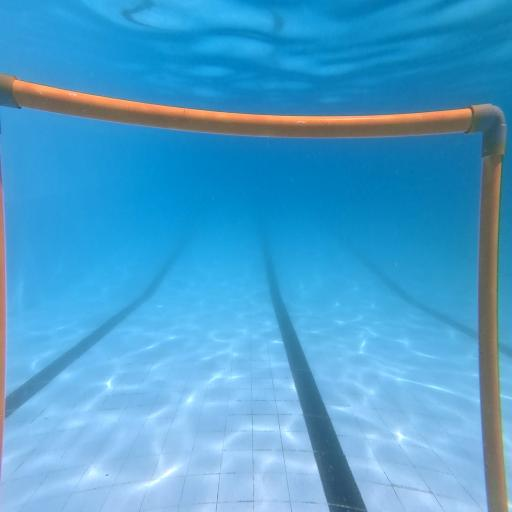gate: (0, 72, 507, 512)
